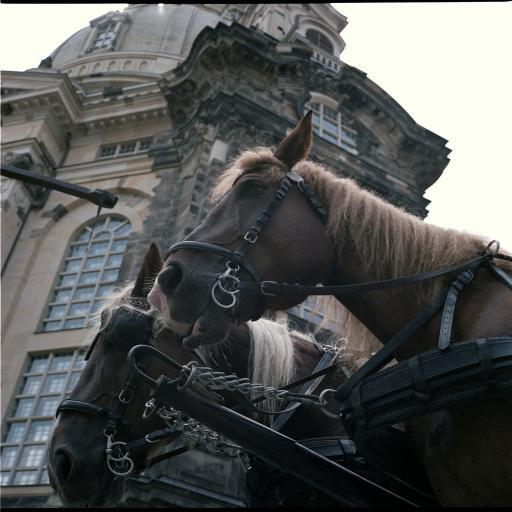Horse: (141, 108, 512, 512), (45, 240, 405, 512)
